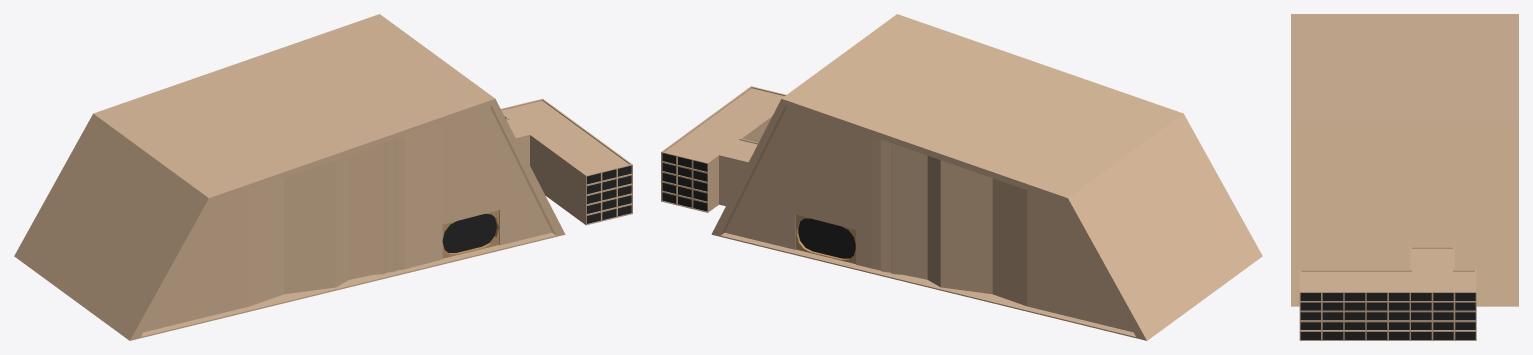
Rendered from auditoriom.gltf.
3 renders of one model, left to right at view 1: azimuth 30°, elevation 25°; view 2: azimuth 150°, elevation 25°; view 3: azimuth 270°, elevation 25°, orthographic.
Visible parts, largest first — view 1: auditorium; view 2: auditorium; view 3: auditorium.
Boxes of the visible parts, box(x1,y1,x2,y2) form: auditorium: box(14, 14, 632, 340); auditorium: box(661, 14, 1262, 340); auditorium: box(1291, 14, 1518, 340).
Size of the model in its own units: 98.74 by 28.46 by 39.01.
Materials: 1 (1 with a texture image).
